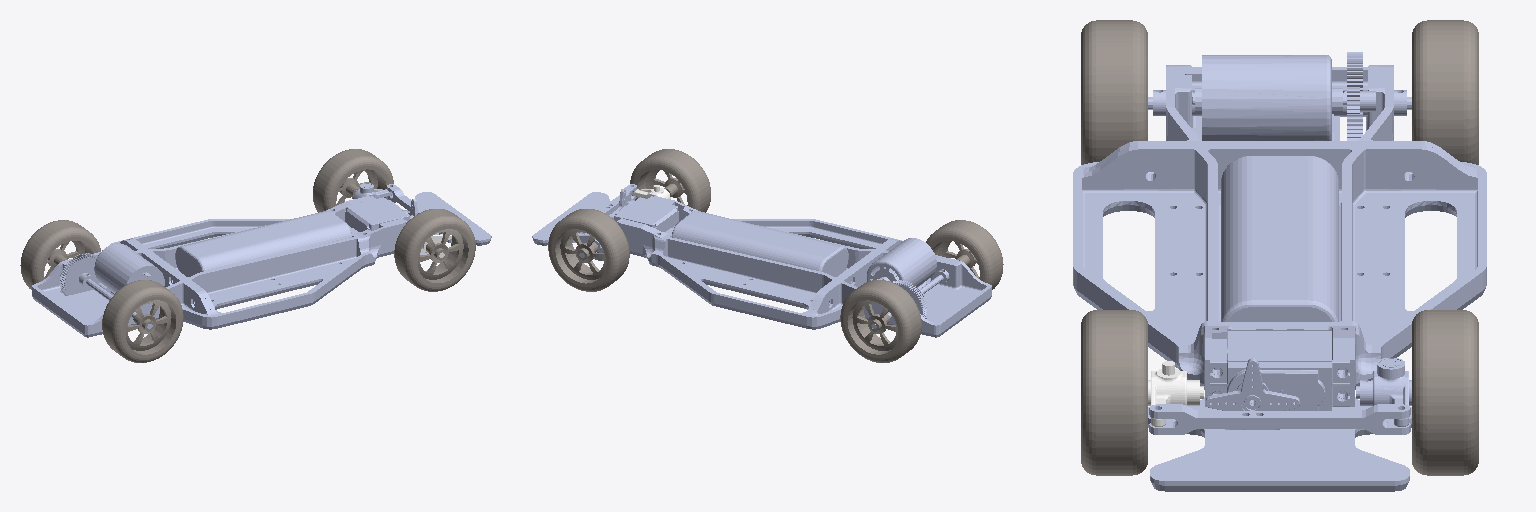
The robot description file, URDF, robot "racecar":
<?xml version="1.0" encoding="utf-8"?>
<!-- This URDF was automatically created by SolidWorks to URDF Exporter! Originally created by [author] ([email redacted]) 
     Commit Version: 1.6.0-4-g7f85cfe  Build Version: 1.6.7995.38578
     For more information, please see http://wiki.ros.org/sw_urdf_exporter -->
<robot
  name="racecar">
  <link
    name="base_link">
    <inertial>
      <origin
        xyz="-0.011961 0.0014322 0.010369"
        rpy="0 0 0" />
      <mass
        value="0.53959" />
      <inertia
        ixx="0.00049247"
        ixy="-5.2134E-07"
        ixz="4.2583E-06"
        iyy="0.00078598"
        iyz="-4.8E-07"
        izz="0.0012366" />
    </inertial>
    <visual>
      <origin
        xyz="0 0 0"
        rpy="0 0 0" />
      <geometry>
        <mesh
          filename="package://racecar/meshes/base_link.STL" />
      </geometry>
      <material
        name="">
        <color
          rgba="0.79216 0.81961 0.93333 1" />
      </material>
    </visual>
    <collision>
      <origin
        xyz="0 0 0"
        rpy="0 0 0" />
      <geometry>
        <mesh
          filename="package://racecar/meshes/base_link.STL" />
      </geometry>
    </collision>
  </link>
  <link
    name="bl_link">
    <inertial>
      <origin
        xyz="-3.0809E-15 -0.0061847 -1.7746E-15"
        rpy="0 0 0" />
      <mass
        value="0.04139" />
      <inertia
        ixx="1.6789E-05"
        ixy="-2.1023E-20"
        ixz="-5.6357E-23"
        iyy="2.9634E-05"
        iyz="-4.87E-20"
        izz="1.6789E-05" />
    </inertial>
    <visual>
      <origin
        xyz="0 0 0"
        rpy="0 0 0" />
      <geometry>
        <mesh
          filename="package://racecar/meshes/bl_link.STL" />
      </geometry>
      <material
        name="">
        <color
          rgba="0.64706 0.61961 0.6 1" />
      </material>
    </visual>
    <collision>
      <origin
        xyz="0 0 0"
        rpy="0 0 0" />
      <geometry>
        <mesh
          filename="package://racecar/meshes/bl_link.STL" />
      </geometry>
    </collision>
  </link>
  <joint
    name="bl_joint"
    type="continuous">
    <origin
      xyz="-0.13238 0.070603 0.014"
      rpy="0 0 0" />
    <parent
      link="base_link" />
    <child
      link="bl_link" />
    <axis
      xyz="0 -1 0" />
  </joint>
  <link
    name="br_link">
    <inertial>
      <origin
        xyz="-2.7756E-17 0.0061847 5.2042E-18"
        rpy="0 0 0" />
      <mass
        value="0.04139" />
      <inertia
        ixx="1.6789E-05"
        ixy="4.7172E-20"
        ixz="3.012E-23"
        iyy="2.9634E-05"
        iyz="-6.8795E-21"
        izz="1.6789E-05" />
    </inertial>
    <visual>
      <origin
        xyz="0 0 0"
        rpy="0 0 0" />
      <geometry>
        <mesh
          filename="package://racecar/meshes/br_link.STL" />
      </geometry>
      <material
        name="">
        <color
          rgba="0.64706 0.61961 0.6 1" />
      </material>
    </visual>
    <collision>
      <origin
        xyz="0 0 0"
        rpy="0 0 0" />
      <geometry>
        <mesh
          filename="package://racecar/meshes/br_link.STL" />
      </geometry>
    </collision>
  </link>
  <joint
    name="br_joint"
    type="continuous">
    <origin
      xyz="-0.13238 -0.070603 0.014"
      rpy="0 0 0" />
    <parent
      link="base_link" />
    <child
      link="br_link" />
    <axis
      xyz="0 1 0" />
  </joint>
  <link
    name="left_link">
    <inertial>
      <origin
        xyz="0.00048142 0.0039043 -0.0071148"
        rpy="0 0 0" />
      <mass
        value="0.01698" />
      <inertia
        ixx="1.3987E-06"
        ixy="-2.7905E-08"
        ixz="-4.4121E-11"
        iyy="3.7725E-07"
        iyz="-1.3287E-12"
        izz="1.5166E-06" />
    </inertial>
    <visual>
      <origin
        xyz="0 0 0"
        rpy="0 0 0" />
      <geometry>
        <mesh
          filename="package://racecar/meshes/left_link.STL" />
      </geometry>
      <material
        name="">
        <color
          rgba="0.79216 0.81961 0.93333 1" />
      </material>
    </visual>
    <collision>
      <origin
        xyz="0 0 0"
        rpy="0 0 0" />
      <geometry>
        <mesh
          filename="package://racecar/meshes/left_link.STL" />
      </geometry>
    </collision>
  </link>
  <joint
    name="akbl_joint"
    type="revolute">
    <origin
      xyz="0.1323 0.043 0.0224"
      rpy="0 0 0" />
    <parent
      link="base_link" />
    <child
      link="left_link" />
    <axis
      xyz="0 0 -1" />
    <limit
      lower="0"
      upper="0"
      effort="0"
      velocity="0" />
  </joint>
  <link
    name="fl_link">
    <inertial>
      <origin
        xyz="-0.0014437 -0.0061469 -6.5919E-16"
        rpy="0 0 0" />
      <mass
        value="0.04139" />
      <inertia
        ixx="1.6789E-05"
        ixy="-2.3334E-20"
        ixz="-2.4007E-21"
        iyy="2.9634E-05"
        iyz="5.8291E-21"
        izz="1.6789E-05" />
    </inertial>
    <visual>
      <origin
        xyz="0 0 0"
        rpy="0 0 0" />
      <geometry>
        <mesh
          filename="package://racecar/meshes/fl_link.STL" />
      </geometry>
      <material
        name="">
        <color
          rgba="0.64706 0.61961 0.6 1" />
      </material>
    </visual>
    <collision>
      <origin
        xyz="0 0 0"
        rpy="0 0 0" />
      <geometry>
        <mesh
          filename="package://racecar/meshes/fl_link.STL" />
      </geometry>
    </collision>
  </link>
  <joint
    name="fl_joint"
    type="continuous">
    <origin
      xyz="0.0014457 0.027515 -0.0085"
      rpy="0 0 -7.227E-05" />
    <parent
      link="left_link" />
    <child
      link="fl_link" />
    <axis
      xyz="-0.052397 -0.99863 0" />
  </joint>
  <link
    name="front_link1">
    <inertial>
      <origin
        xyz="1.2521E-05 -0.046798 -0.0035"
        rpy="0 0 0" />
      <mass
        value="0.0035583" />
      <inertia
        ixx="3.3269E-06"
        ixy="8.93E-12"
        ixz="-3.2508E-15"
        iyy="3.3176E-08"
        iyz="-1.8614E-13"
        izz="3.3233E-06" />
    </inertial>
    <visual>
      <origin
        xyz="0 0 0"
        rpy="0 0 0" />
      <geometry>
        <mesh
          filename="package://racecar/meshes/front_link1.STL" />
      </geometry>
      <material
        name="">
        <color
          rgba="0.79216 0.81961 0.93333 1" />
      </material>
    </visual>
    <collision>
      <origin
        xyz="0 0 0"
        rpy="0 0 0" />
      <geometry>
        <mesh
          filename="package://racecar/meshes/front_link1.STL" />
      </geometry>
    </collision>
  </link>
  <joint
    name="akfl_joint"
    type="revolute">
    <origin
      xyz="0.024615 0.0039982 -0.005"
      rpy="0 0 0" />
    <parent
      link="left_link" />
    <child
      link="front_link1" />
    <axis
      xyz="0 0 1" />
    <limit
      lower="0"
      upper="0"
      effort="0"
      velocity="0" />
  </joint>
  <link
    name="right_link">
    <inertial>
      <origin
        xyz="0 0 0"
        rpy="0 0 0" />
      <mass
        value="0" />
      <inertia
        ixx="0"
        ixy="0"
        ixz="0"
        iyy="0"
        iyz="0"
        izz="0" />
    </inertial>
    <visual>
      <origin
        xyz="0 0 0"
        rpy="0 0 0" />
      <geometry>
        <mesh
          filename="package://racecar/meshes/right_link.STL" />
      </geometry>
      <material
        name="">
        <color
          rgba="1 1 1 1" />
      </material>
    </visual>
    <collision>
      <origin
        xyz="0 0 0"
        rpy="0 0 0" />
      <geometry>
        <mesh
          filename="package://racecar/meshes/right_link.STL" />
      </geometry>
    </collision>
  </link>
  <joint
    name="akbr_joint"
    type="revolute">
    <origin
      xyz="0.1323 -0.043 0.0224"
      rpy="0 0 0" />
    <parent
      link="base_link" />
    <child
      link="right_link" />
    <axis
      xyz="0 0 -1" />
    <limit
      lower="0"
      upper="0"
      effort="0"
      velocity="0" />
  </joint>
  <link
    name="fr_link">
    <inertial>
      <origin
        xyz="0.001455 0.0061463 -1.8163E-15"
        rpy="0 0 0" />
      <mass
        value="0.04139" />
      <inertia
        ixx="1.6789E-05"
        ixy="-2.1868E-20"
        ixz="9.6889E-22"
        iyy="2.9634E-05"
        iyz="7.4954E-21"
        izz="1.6789E-05" />
    </inertial>
    <visual>
      <origin
        xyz="0 0 0"
        rpy="0 0 0" />
      <geometry>
        <mesh
          filename="package://racecar/meshes/fr_link.STL" />
      </geometry>
      <material
        name="">
        <color
          rgba="0.64706 0.61961 0.6 1" />
      </material>
    </visual>
    <collision>
      <origin
        xyz="0 0 0"
        rpy="0 0 0" />
      <geometry>
        <mesh
          filename="package://racecar/meshes/fr_link.STL" />
      </geometry>
    </collision>
  </link>
  <joint
    name="fr_joint"
    type="continuous">
    <origin
      xyz="-0.001453 -0.027514 -0.0085"
      rpy="0 0 7.227E-05" />
    <parent
      link="right_link" />
    <child
      link="fr_link" />
    <axis
      xyz="0.052808 0.9986 0" />
  </joint>
  <link
    name="front_link2">
    <inertial>
      <origin
        xyz="1.2521E-05 0.047199 -0.0035"
        rpy="0 0 0" />
      <mass
        value="0.0035583" />
      <inertia
        ixx="3.3269E-06"
        ixy="8.93E-12"
        ixz="-3.2508E-15"
        iyy="3.3176E-08"
        iyz="-1.8614E-13"
        izz="3.3233E-06" />
    </inertial>
    <visual>
      <origin
        xyz="0 0 0"
        rpy="0 0 0" />
      <geometry>
        <mesh
          filename="package://racecar/meshes/front_link2.STL" />
      </geometry>
      <material
        name="">
        <color
          rgba="0.79216 0.81961 0.93333 1" />
      </material>
    </visual>
    <collision>
      <origin
        xyz="0 0 0"
        rpy="0 0 0" />
      <geometry>
        <mesh
          filename="package://racecar/meshes/front_link2.STL" />
      </geometry>
    </collision>
  </link>
  <joint
    name="akfr_joint"
    type="revolute">
    <origin
      xyz="0.024615 -0.0039982 -0.005"
      rpy="0 0 0" />
    <parent
      link="right_link" />
    <child
      link="front_link2" />
    <axis
      xyz="0 0 1" />
    <limit
      lower="0"
      upper="0"
      effort="0"
      velocity="0" />
  </joint>
</robot>

--- What the picture shows (computed from the rendered views, not written in the file) ---
Views: 3 orthographic renders of the robot side by side, from view 1: azimuth 30°, elevation 25°; view 2: azimuth 150°, elevation 25°; view 3: azimuth 270°, elevation 25°.
Model racecar with 9 links and 8 joints (4 revolute, 4 continuous), rooted at base_link, posed all joints at 0.
Links seen in each view (by area): view 1: base_link, br_link, fr_link, fl_link, bl_link; view 2: base_link, fl_link, bl_link, fr_link, br_link; view 3: base_link, fl_link, fr_link, bl_link, br_link, front_link1, left_link, right_link, front_link2.
Boxes of the visible links, x1,y1,x2,y2 form: base_link: (32,192,491,337); br_link: (102,280,183,362); fr_link: (394,209,475,291); fl_link: (313,149,393,212); bl_link: (20,220,100,289); base_link: (532,189,991,337); fl_link: (548,209,629,291); bl_link: (840,280,921,362); fr_link: (630,149,710,212); br_link: (926,220,1003,289); base_link: (1073,52,1486,491); fl_link: (1412,310,1478,475); fr_link: (1081,310,1147,475); bl_link: (1412,20,1478,164); br_link: (1081,20,1147,164); front_link1: (1149,404,1410,434); left_link: (1356,358,1411,426); right_link: (1148,361,1203,426); front_link2: (1150,404,1410,434).
Size in the robot's own frame: 0.3663 by 0.16 by 0.0641 metres.
9 mesh visuals loaded from 9 distinct referenced files (9 binary STL).